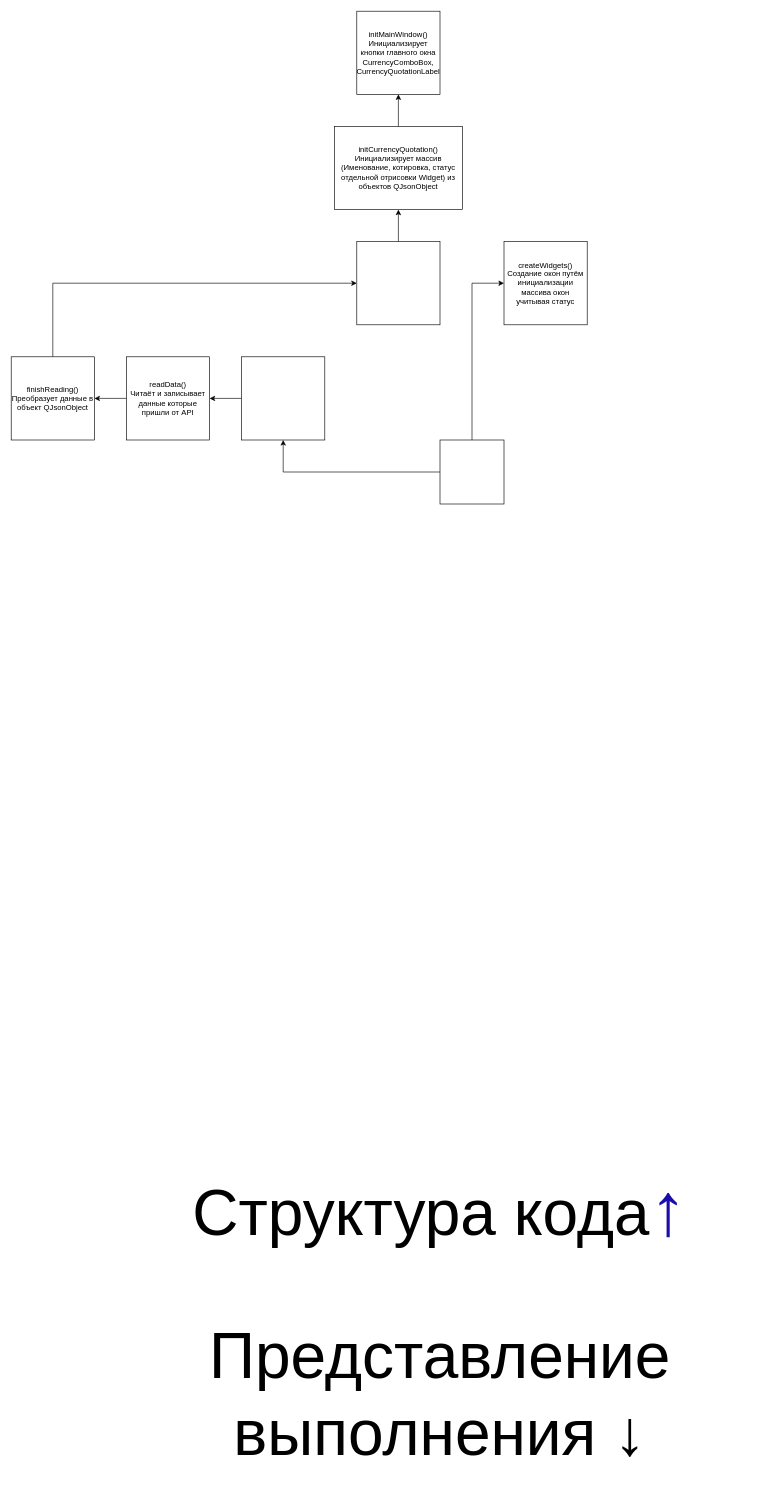
Some shapes in this 771 by 1501 pixel diagram are drawn without their labels. The shapes that lost their labels are listed below. From the top down, each one's centre as x and y in pixels, then its label:
the point at 398,283: init() Инициализация используя полученный QjsonObject
the point at 283,398: serverRequestInit() Запрос Json файла от сервера и запись данных
the point at 471,471: MainWindow
